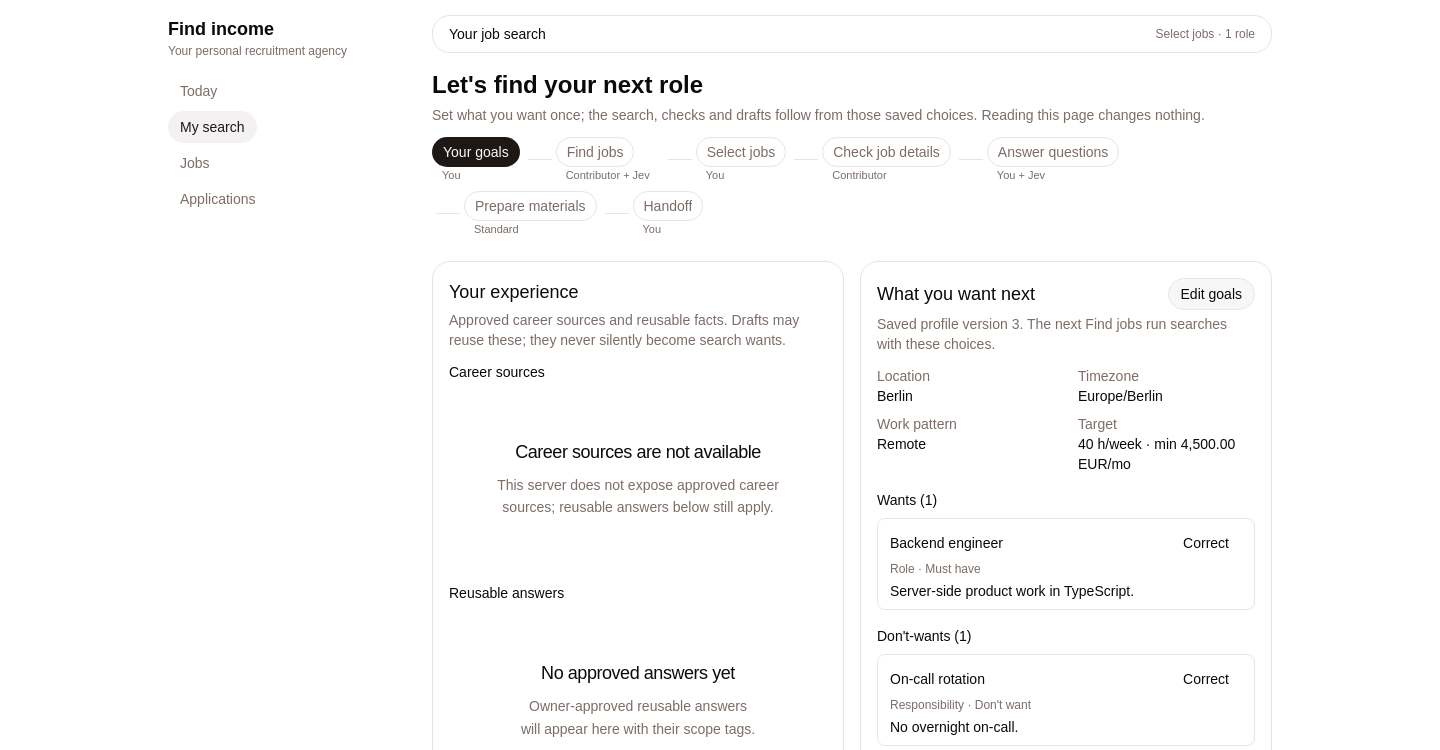
Scenario: goals form and experience (B2) › edits salary in ordinary units and saves exact cents
Click the button "Edit goals" at coordinates (1211, 294), box [1168, 278, 1255, 310]
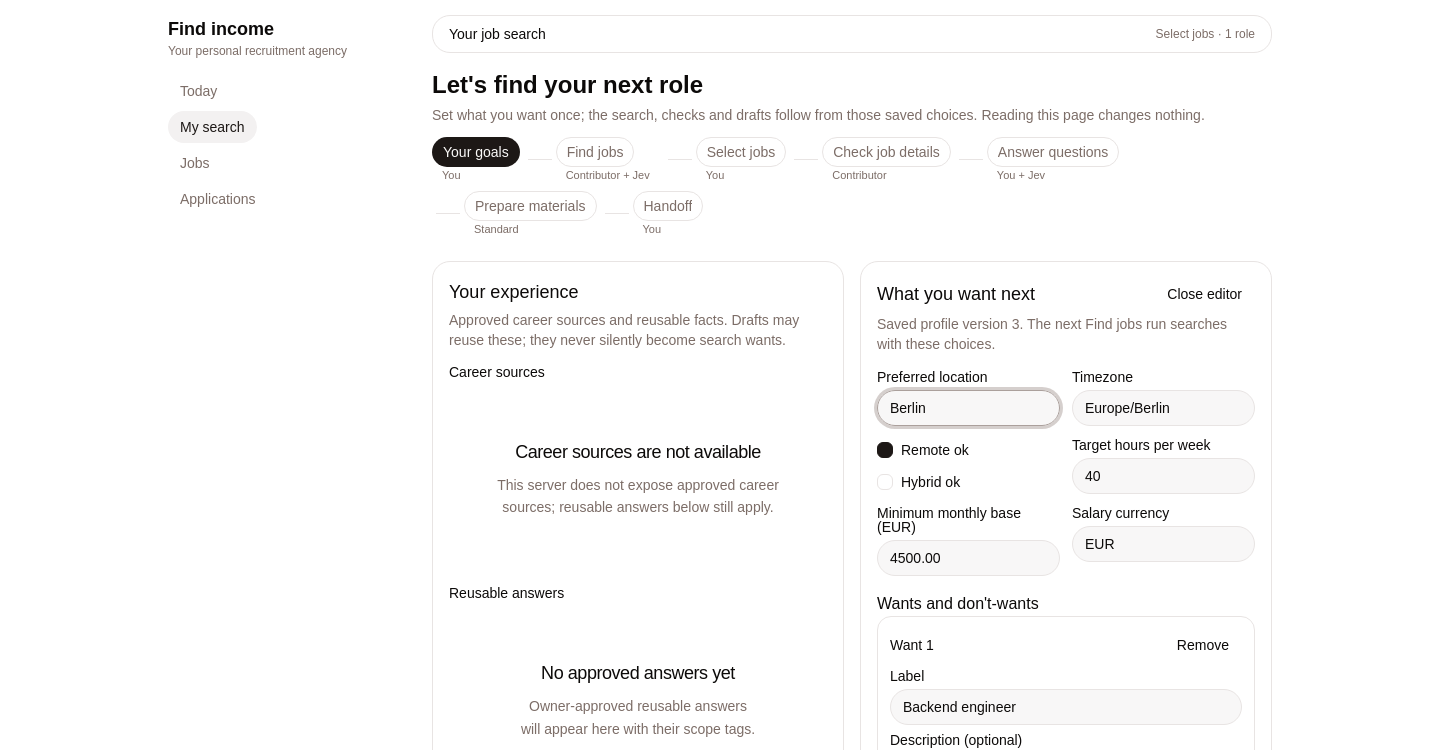
Check: the field labelled "Minimum monthly base (EUR)" holds "4500.00"
Type "4500.50" into the field labelled "Minimum monthly base (EUR)" at coordinates (968, 558), box [877, 540, 1060, 576]
(page scrolled)
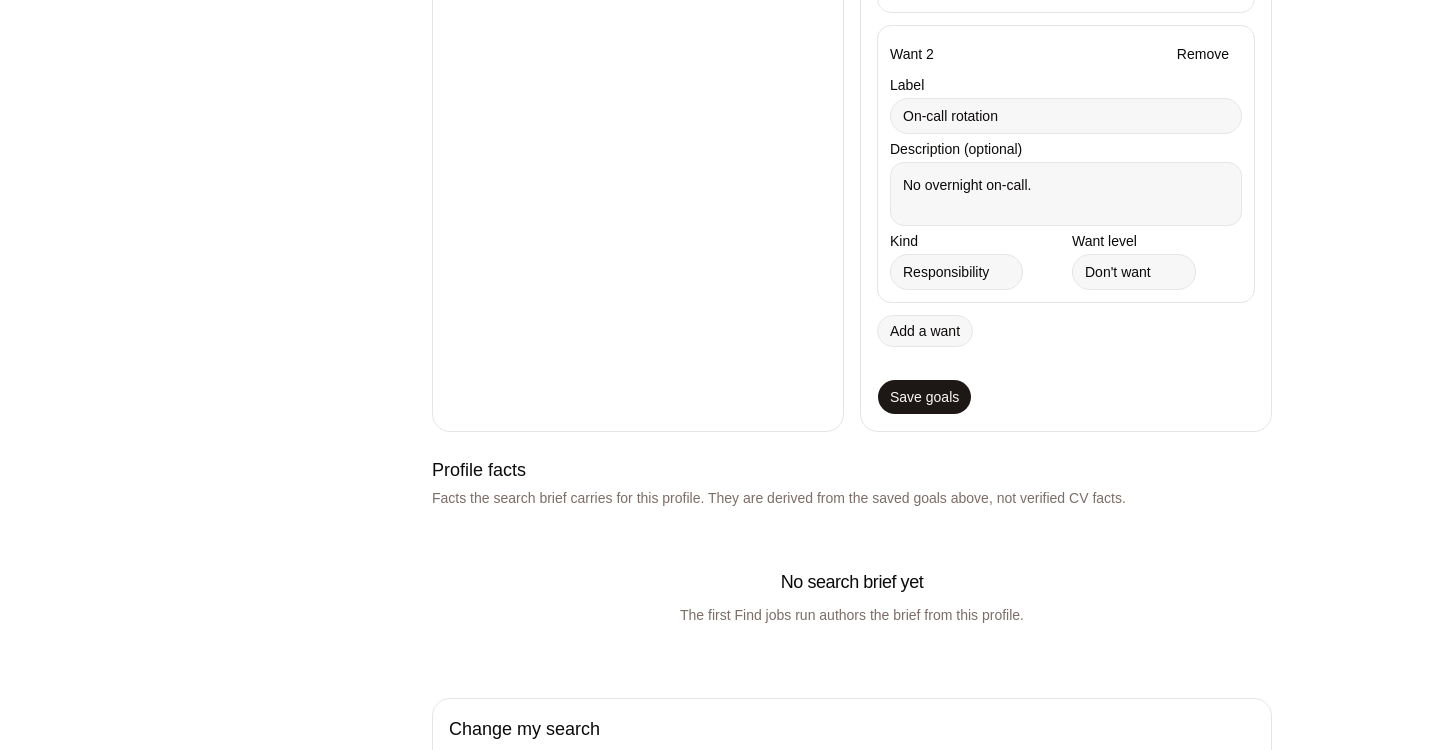
Click the button "Save goals" at coordinates (925, 396), box [877, 378, 972, 414]
(page scrolled)
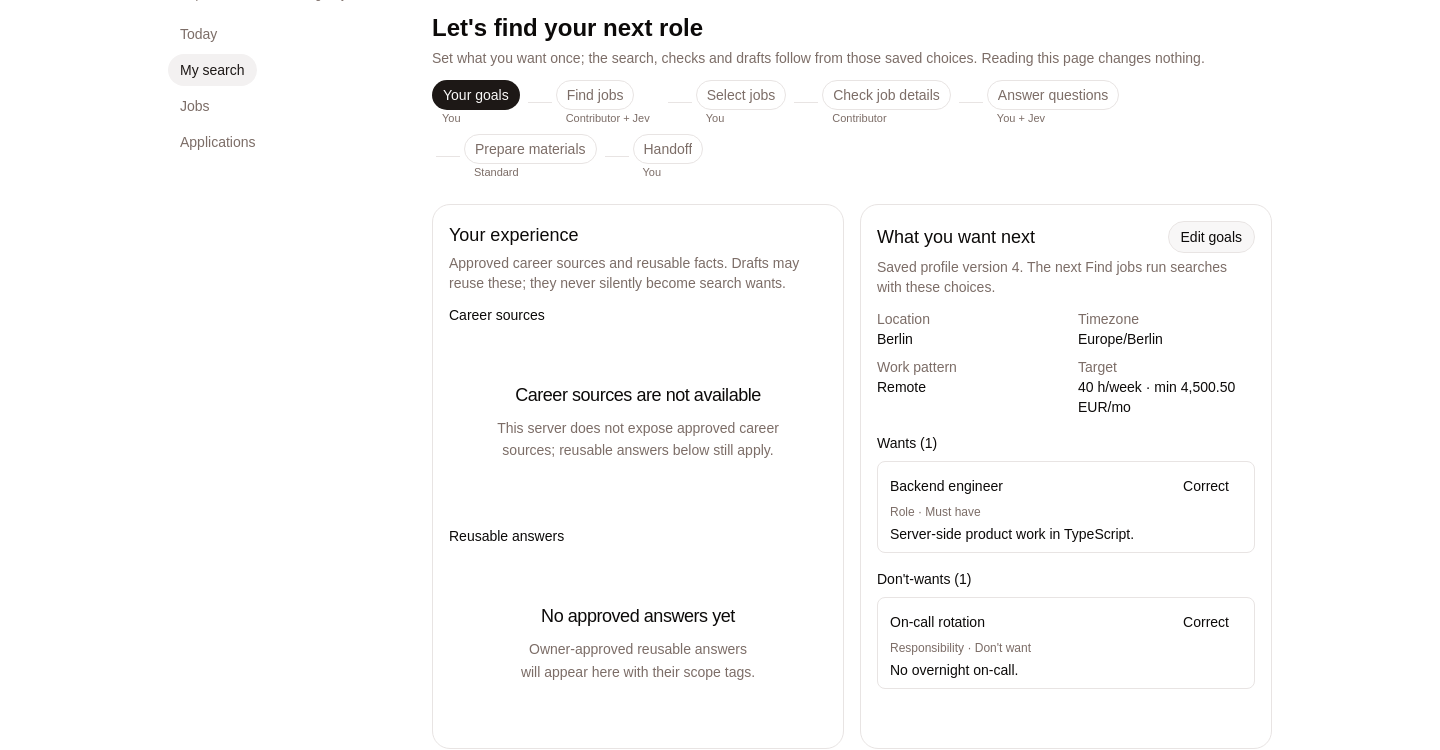
Check: the text "Saved profile version 4" is shown, box [877, 256, 1255, 296]
Check: the text "40 h/week · min 4,500.50 EUR/mo" is shown, box [1078, 376, 1255, 416]
